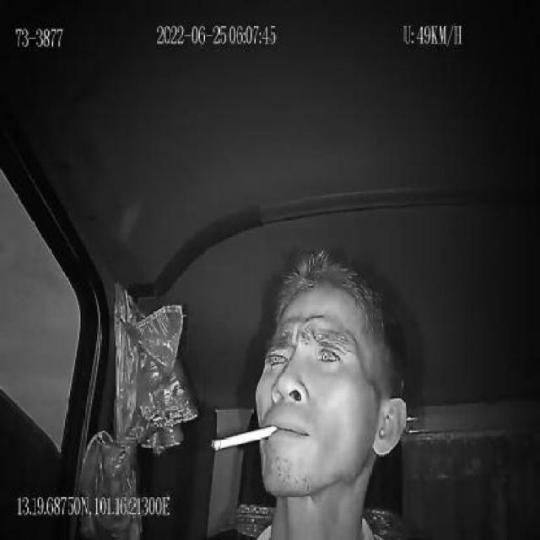smoking: (210, 420, 280, 455)
